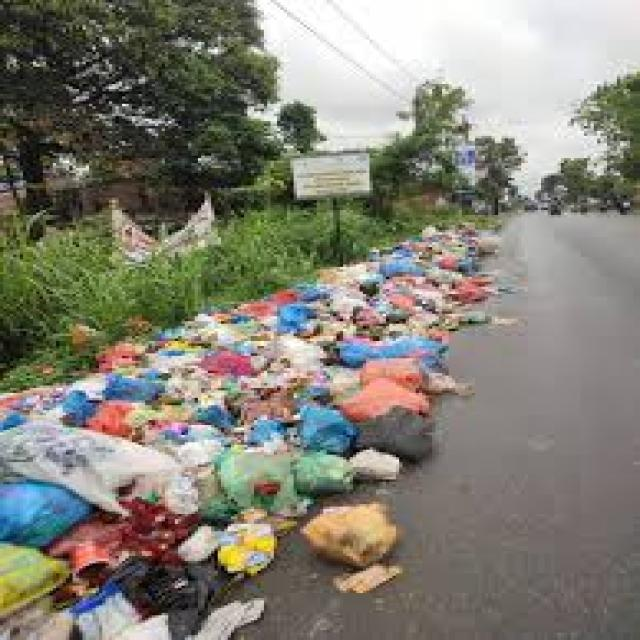trash: (5, 264, 517, 640)
